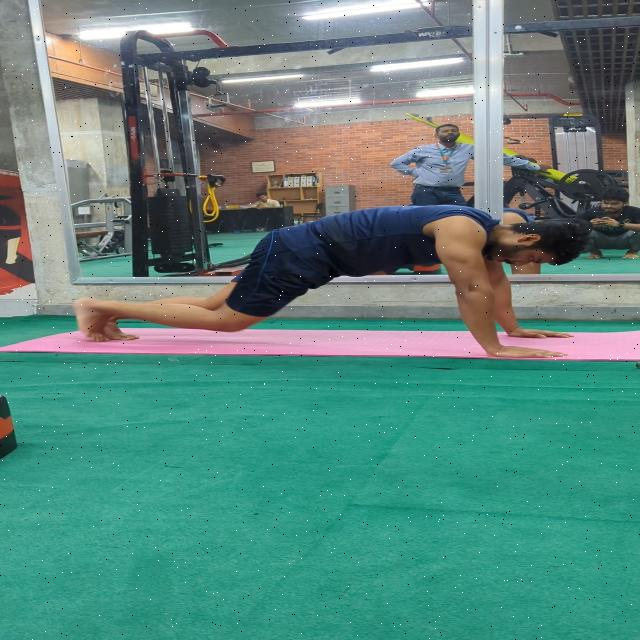Normal_MountainClimbers: (62, 198, 612, 381)
